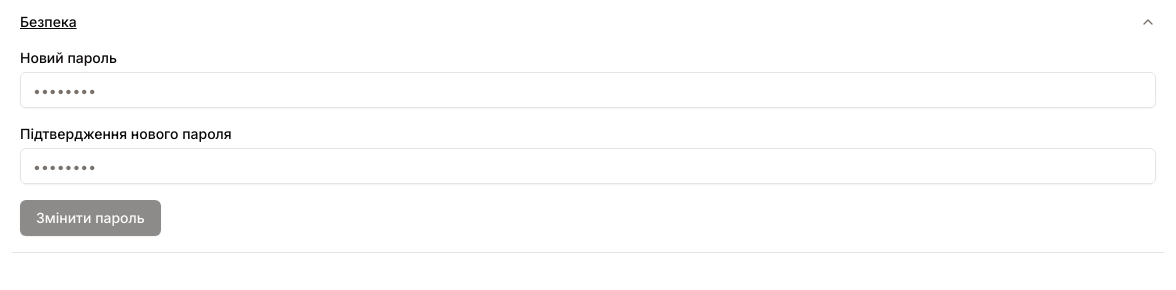
SecurityFormContainer › shows error when passwords do not match
Step 1. Type "newpassword123" into the password field labelled "Новий пароль" → (588, 90), box [20,72,1156,108]
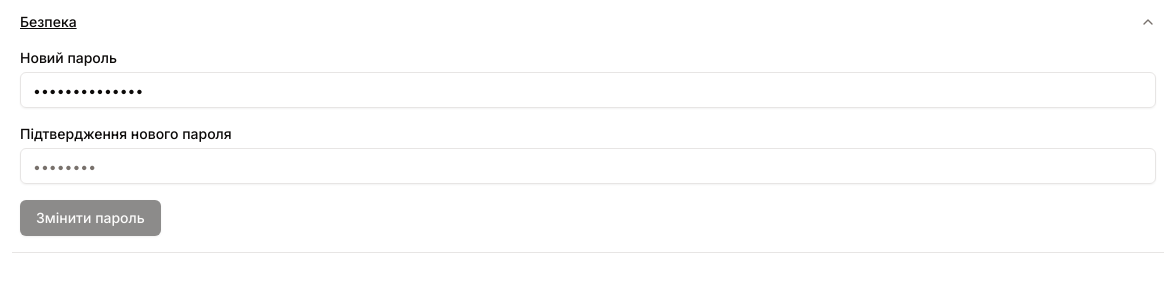
Step 2. Type "differentpassword" into the password field labelled "Підтвердження нового пароля" → (588, 166), box [20,148,1156,184]
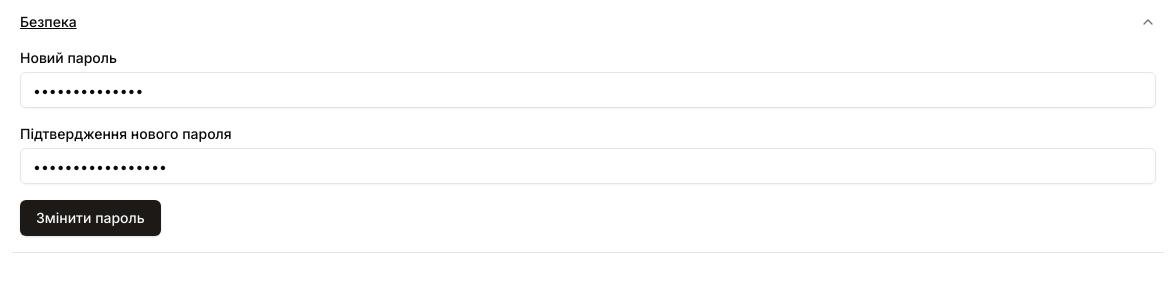
Step 3. Click the button "Змінити пароль" → (90, 218), box [20,200,161,236]
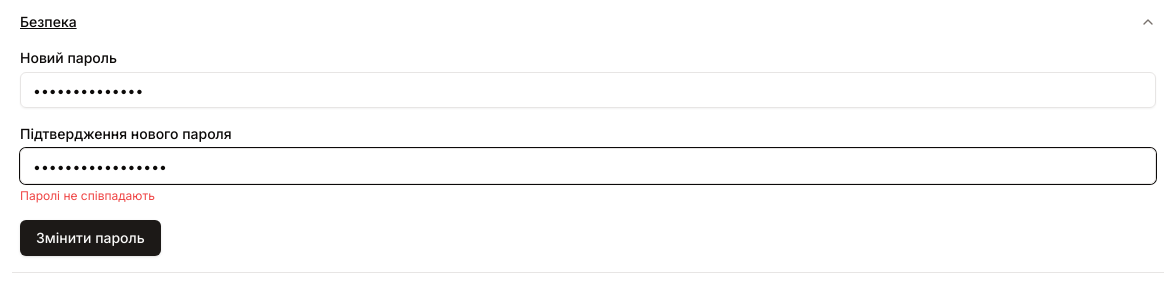
Expected: the text "Паролі не співпадають" is shown, [20,188,155,203]
